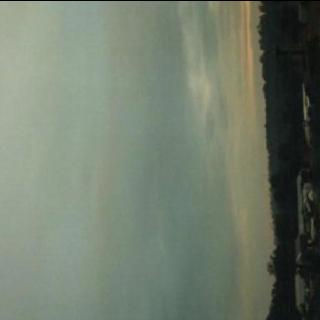Nimbostratus: (0, 0, 251, 320)
